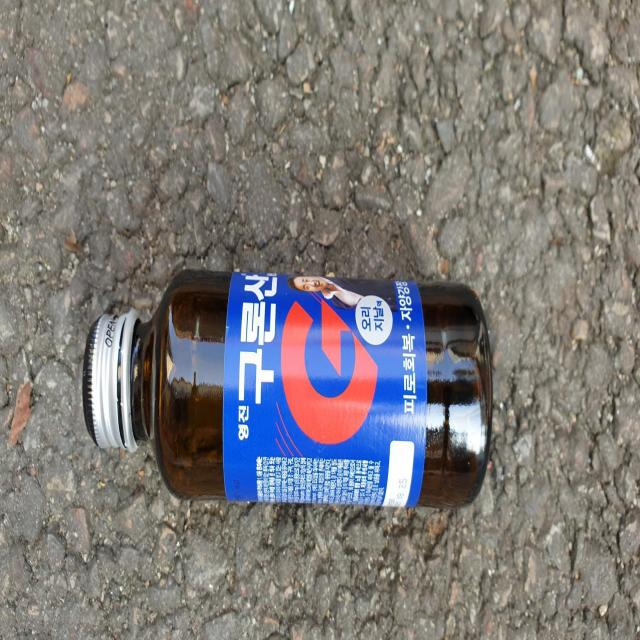glass: (82, 270, 493, 507)
